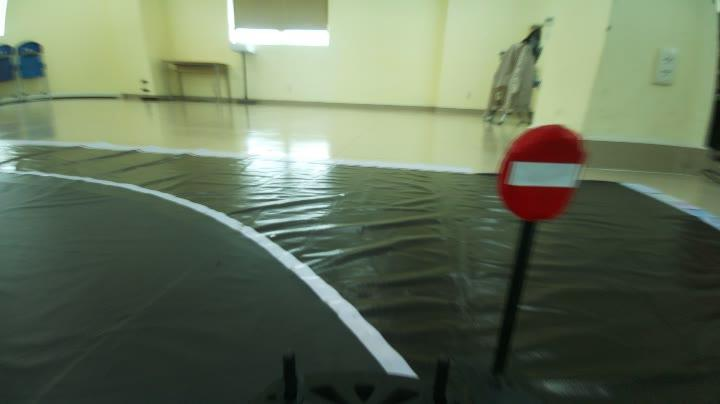no_entry: (494, 114, 588, 228)
